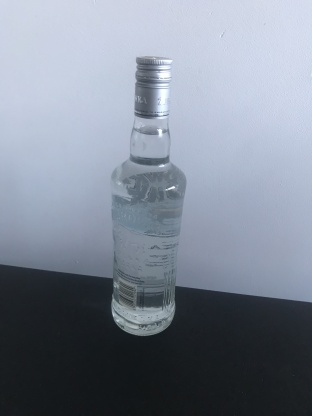nakretka: (133, 53, 173, 120)
